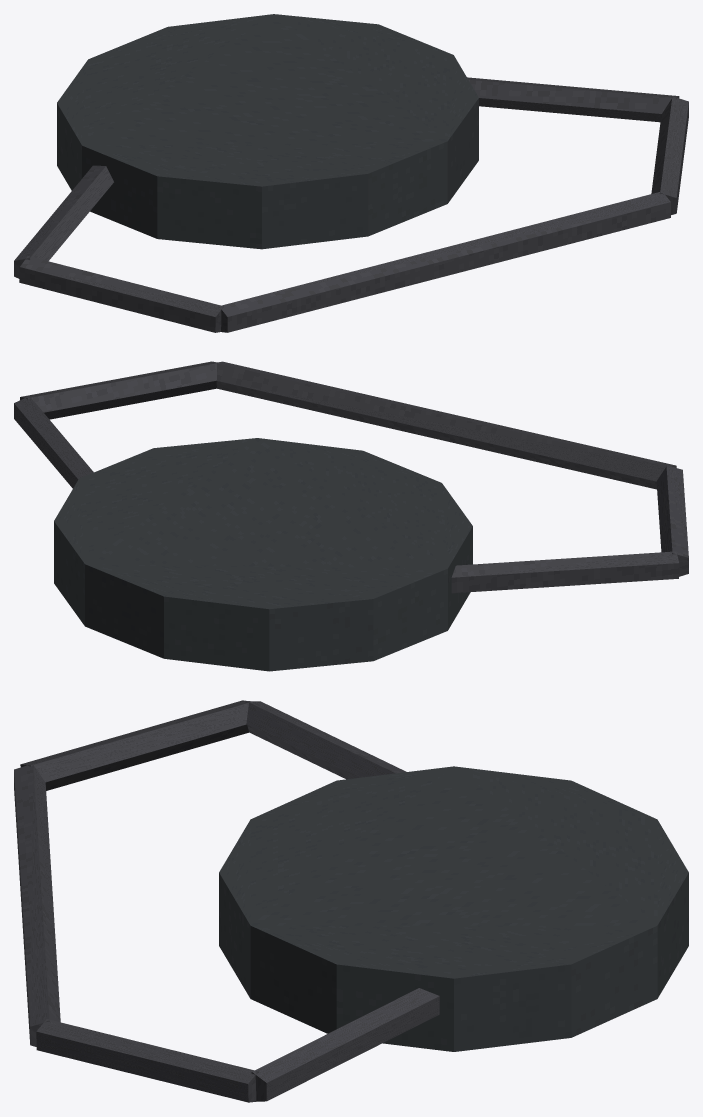
File: eyepatch_leather.glb
3 views of the same model, one above another, from view 1: azimuth 30°, elevation 25°; view 2: azimuth 150°, elevation 25°; view 3: azimuth 270°, elevation 25° (orthographic). The views are drawn at different scales.
Visible parts, largest first — view 1: block_leather eye patch, block_eyepatch cord 2, block_eyepatch cord 1, block_eyepatch cord 4, block_eyepatch cord 0, block_eyepatch cord 3; view 2: block_leather eye patch, block_eyepatch cord 2, block_eyepatch cord 0, block_eyepatch cord 3, block_eyepatch cord 4, block_eyepatch cord 1; view 3: block_leather eye patch, block_eyepatch cord 2, block_eyepatch cord 3, block_eyepatch cord 1, block_eyepatch cord 4, block_eyepatch cord 0.
Boxes of the visible parts, x1=… form: block_leather eye patch: x1=57, y1=14, x2=478, y2=249; block_eyepatch cord 2: x1=219, y1=191, x2=670, y2=332; block_eyepatch cord 1: x1=19, y1=256, x2=223, y2=332; block_eyepatch cord 4: x1=467, y1=77, x2=679, y2=122; block_eyepatch cord 0: x1=14, y1=165, x2=113, y2=278; block_eyepatch cord 3: x1=651, y1=96, x2=688, y2=214; block_leather eye patch: x1=54, y1=438, x2=472, y2=671; block_eyepatch cord 2: x1=215, y1=361, x2=676, y2=489; block_eyepatch cord 0: x1=451, y1=551, x2=679, y2=593; block_eyepatch cord 3: x1=20, y1=361, x2=219, y2=419; block_eyepatch cord 4: x1=14, y1=396, x2=93, y2=488; block_eyepatch cord 1: x1=656, y1=465, x2=688, y2=576; block_leather eye patch: x1=219, y1=766, x2=688, y2=1051; block_eyepatch cord 2: x1=14, y1=763, x2=60, y2=1046; block_eyepatch cord 3: x1=36, y1=1019, x2=258, y2=1102; block_eyepatch cord 1: x1=20, y1=700, x2=252, y2=790; block_eyepatch cord 4: x1=251, y1=988, x2=439, y2=1101; block_eyepatch cord 0: x1=245, y1=701, x2=406, y2=779.
Size of the model in its own units: 0.1165 by 0.0104 by 0.0866.
Materials: 1 (1 with a texture image).
